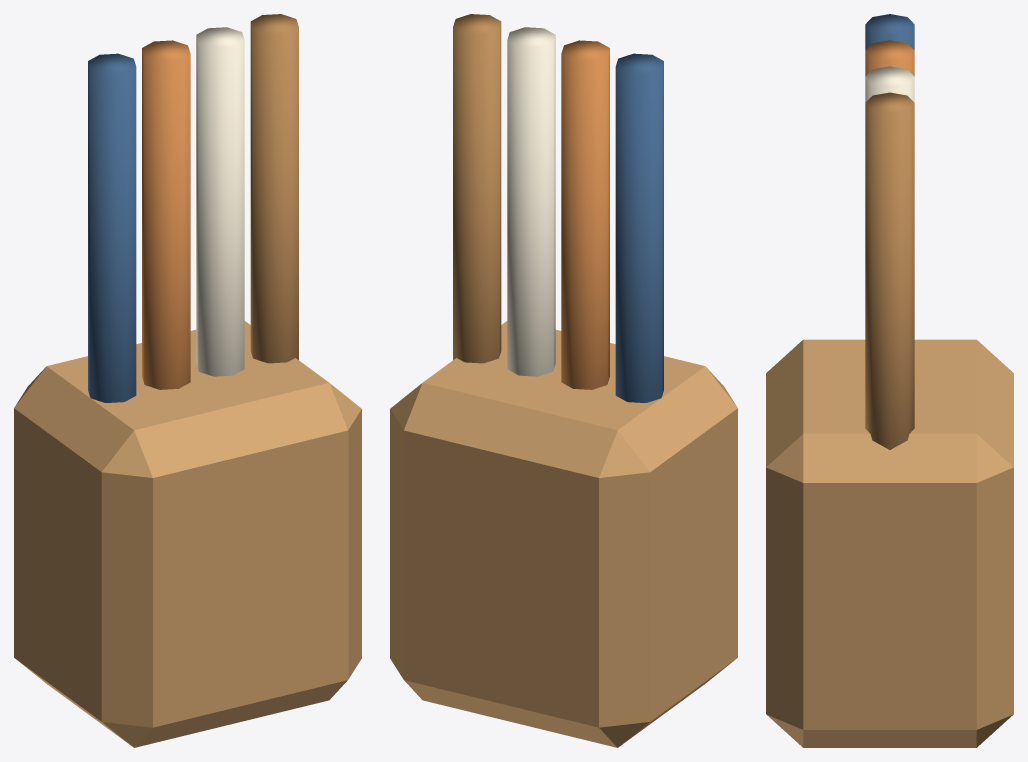
Rendered from pen-holder.glb.
3 renders of one model, left to right at view 1: azimuth 30°, elevation 25°; view 2: azimuth 150°, elevation 25°; view 3: azimuth 270°, elevation 25°, orthographic.
Visible parts, largest first — view 1: pen_holder; view 2: pen_holder; view 3: pen_holder.
Boxes of the visible parts, x1,y1,x2,y2 form: pen_holder: (14,14,361,747); pen_holder: (390,14,737,747); pen_holder: (766,14,1013,747).
Bounding box in the file's own units: 0.12 × 0.285 × 0.1.
